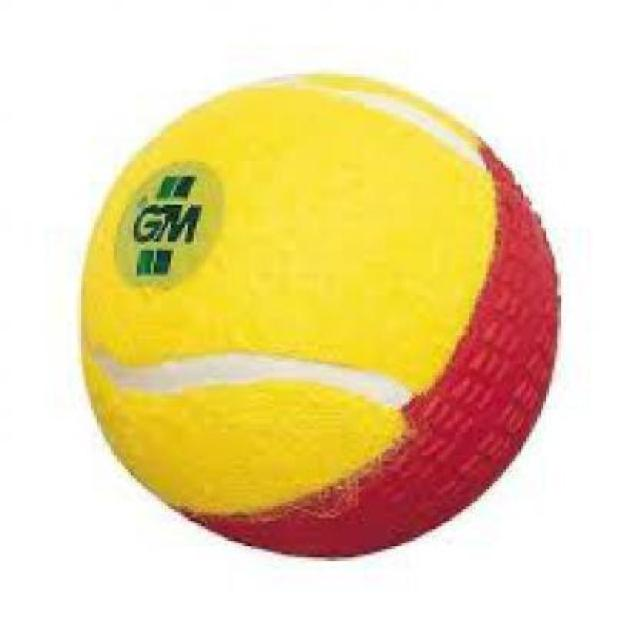ball: (47, 46, 582, 594)
